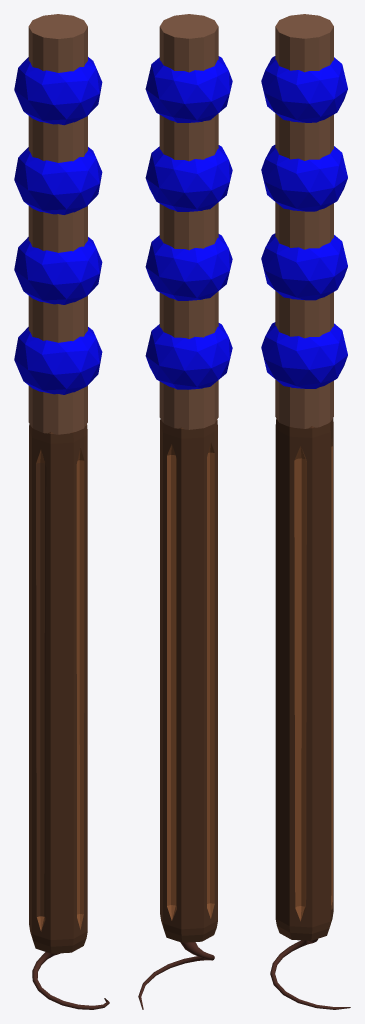
The model's file is Wand 539.glb.
The picture shows the model from 3 angles, left to right: view 1: azimuth 30°, elevation 25°; view 2: azimuth 210°, elevation 25°; view 3: azimuth 330°, elevation 25°; orthographic projection.
Parts seen in each view (by area): view 1: GeneratedWand; view 2: GeneratedWand; view 3: GeneratedWand.
Part boxes in pixels (x1,y1,x2,y2): GeneratedWand: (14,14,109,1009); GeneratedWand: (138,14,232,1009); GeneratedWand: (261,14,350,1009).
Size of the model in its own units: 0.0462 by 0.516 by 0.0428.
